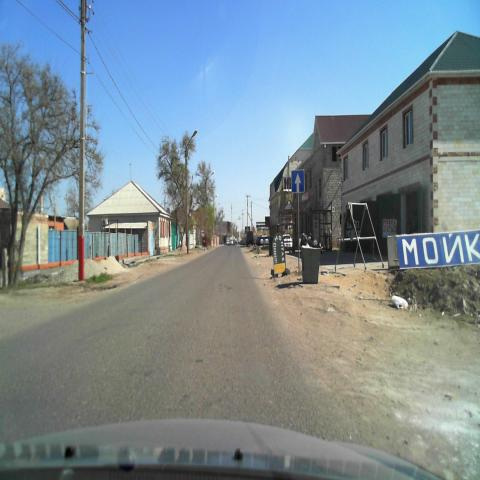5_5: (292, 170, 304, 192)
